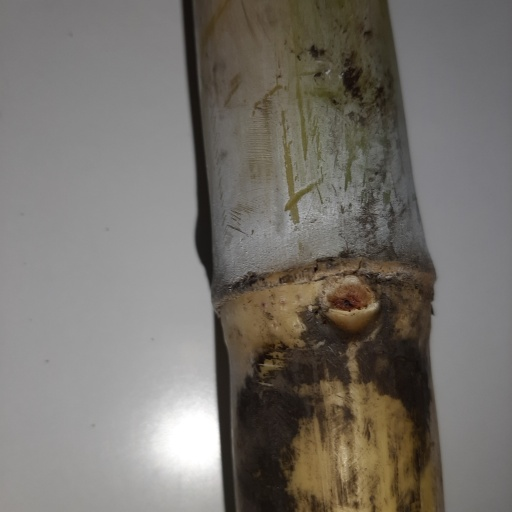Damage_Bud: (318, 276, 382, 331)
